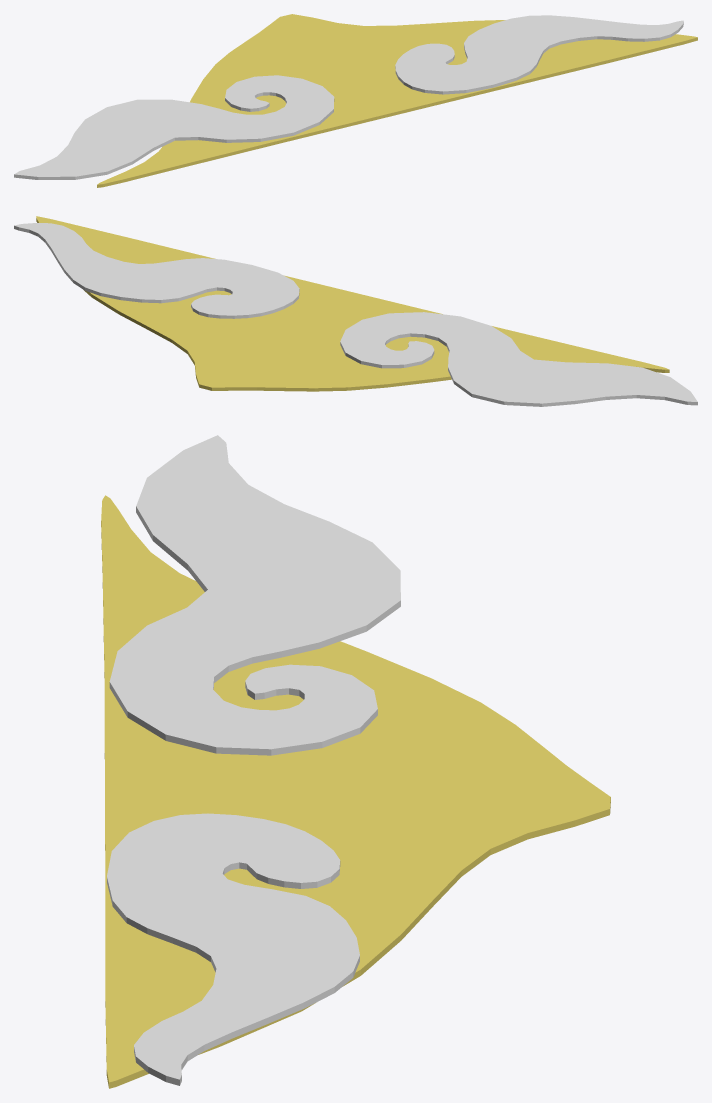
Rendered from pick-ath.fbx.
3 renders of one model, top to bottom at view 1: azimuth 30°, elevation 25°; view 2: azimuth 150°, elevation 25°; view 3: azimuth 270°, elevation 25°, orthographic. The views are drawn at different scales.
Visible parts, largest first — view 1: CloudPick, CloudPickGold; view 2: CloudPick, CloudPickGold; view 3: CloudPick, CloudPickGold.
Boxes of the visible parts, x1,y1,x2,y2 form: CloudPick: (14, 15, 683, 179); CloudPickGold: (97, 14, 697, 187); CloudPick: (14, 223, 697, 406); CloudPickGold: (36, 216, 669, 391); CloudPick: (107, 435, 400, 1085); CloudPickGold: (101, 495, 610, 1088).
Bounding box in the file's own units: 149 × 1.38 × 49.69.
